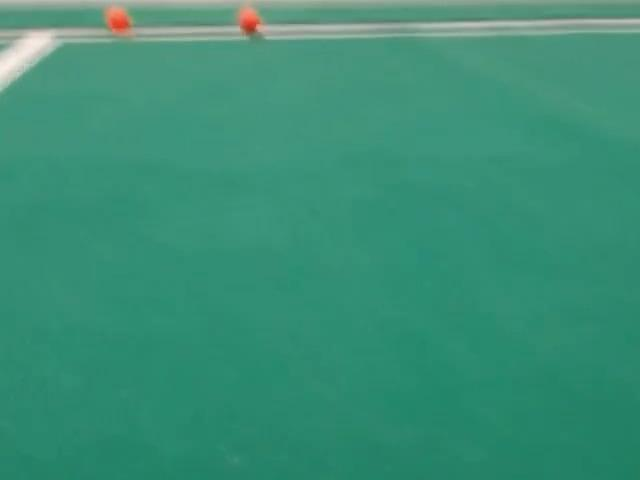Ball: (104, 6, 132, 34), (238, 6, 260, 34)
